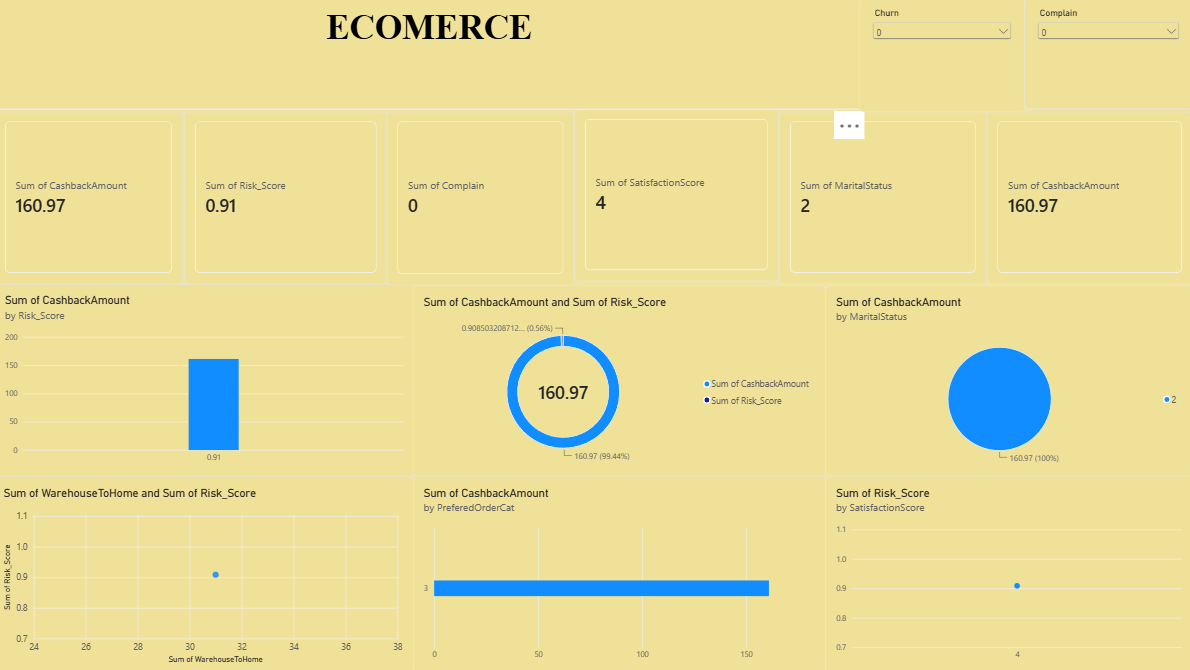

This screenshot's page, from the dashboard's own definition file:
{"tool":"powerbi","page":{"name":"Page 1","canvas":[1920,1080],"ordinal":0},"visuals":[{"type":"columnChart","fields":{"Category":["high_risk_customers.Risk_Score"],"Y":["Sum(high_risk_customers.CashbackAmount)"]},"box":[2.5,457.5,672.5,307.5],"z":0},{"type":"pieChart","fields":{"Category":["high_risk_customers.MaritalStatus"],"Y":["Sum(high_risk_customers.CashbackAmount)"]},"box":[1332.5,460,587.5,305],"z":1000},{"type":"donutChart","fields":{"Y":["Sum(high_risk_customers.CashbackAmount)","Sum(high_risk_customers.Risk_Score)"]},"box":[672.5,460,660,305],"z":2000},{"type":"barChart","fields":{"Category":["high_risk_customers.PreferedOrderCat"],"Y":["Sum(high_risk_customers.CashbackAmount)"]},"box":[672.5,765,660,315],"z":3000},{"type":"lineChart","fields":{"Category":["high_risk_customers.SatisfactionScore"],"Y":["Sum(high_risk_customers.Risk_Score)"]},"box":[1332.5,765,587.5,315],"z":4000},{"type":"scatterChart","fields":{"X":["Sum(high_risk_customers.WarehouseToHome)"],"Y":["Sum(high_risk_customers.Risk_Score)"]},"box":[0,765,672.5,315],"z":5000},{"type":"cardVisual","fields":{"Data":["Sum(high_risk_customers.CashbackAmount)"]},"box":[2.5,182.5,302.5,275],"z":6000},{"type":"cardVisual","fields":{"Data":["Sum(high_risk_customers.Risk_Score)"]},"box":[305,182.5,325,275],"z":7000},{"type":"cardVisual","fields":{"Data":["Sum(high_risk_customers.SatisfactionScore)"]},"box":[930,177.5,327.5,275],"z":8000},{"type":"cardVisual","fields":{"Data":["Sum(high_risk_customers.MaritalStatus)"]},"box":[1257.5,182.5,332.5,275],"z":9000},{"type":"cardVisual","fields":{"Data":["Sum(high_risk_customers.CashbackAmount)"]},"box":[1590,182.5,330,275],"z":10000},{"type":"cardVisual","fields":{"Data":["Sum(high_risk_customers.Complain)"]},"box":[630,182.5,300,277.5],"z":11000},{"type":"textbox","box":[2.5,0,1392.5,177.5],"z":12000},{"type":"slicer","fields":{"Values":["high_risk_customers.Churn"]},"box":[1385,0,265,182.5],"z":12001},{"type":"slicer","fields":{"Values":["high_risk_customers.Complain"]},"box":[1650,0,270,177.5],"z":12002}]}

Visuals, with their boxes in screenshot pixels (x1, y1, x2, y2), scaled from the page's 1920x1080 canvas onto the 1190x670 screenshot:
columnChart - high_risk_customers.Risk_Score x Sum(high_risk_customers.CashbackAmount): left=2, top=284, right=418, bottom=475
pieChart - high_risk_customers.MaritalStatus x Sum(high_risk_customers.CashbackAmount): left=826, top=285, right=1189, bottom=475
donutChart - Sum(high_risk_customers.CashbackAmount) x Sum(high_risk_customers.Risk_Score): left=417, top=285, right=826, bottom=475
barChart - high_risk_customers.PreferedOrderCat x Sum(high_risk_customers.CashbackAmount): left=417, top=475, right=826, bottom=669
lineChart - high_risk_customers.SatisfactionScore x Sum(high_risk_customers.Risk_Score): left=826, top=475, right=1189, bottom=669
scatterChart - Sum(high_risk_customers.WarehouseToHome) x Sum(high_risk_customers.Risk_Score): left=0, top=475, right=417, bottom=669
cardVisual - Sum(high_risk_customers.CashbackAmount): left=2, top=113, right=189, bottom=284
cardVisual - Sum(high_risk_customers.Risk_Score): left=189, top=113, right=390, bottom=284
cardVisual - Sum(high_risk_customers.SatisfactionScore): left=576, top=110, right=779, bottom=281
cardVisual - Sum(high_risk_customers.MaritalStatus): left=779, top=113, right=985, bottom=284
cardVisual - Sum(high_risk_customers.CashbackAmount): left=985, top=113, right=1189, bottom=284
cardVisual - Sum(high_risk_customers.Complain): left=390, top=113, right=576, bottom=285
textbox: left=2, top=0, right=865, bottom=110
slicer - high_risk_customers.Churn: left=858, top=0, right=1023, bottom=113
slicer - high_risk_customers.Complain: left=1023, top=0, right=1189, bottom=110
